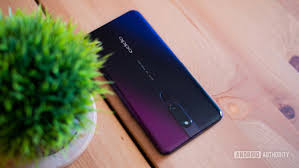oppo: (78, 8, 223, 157)
